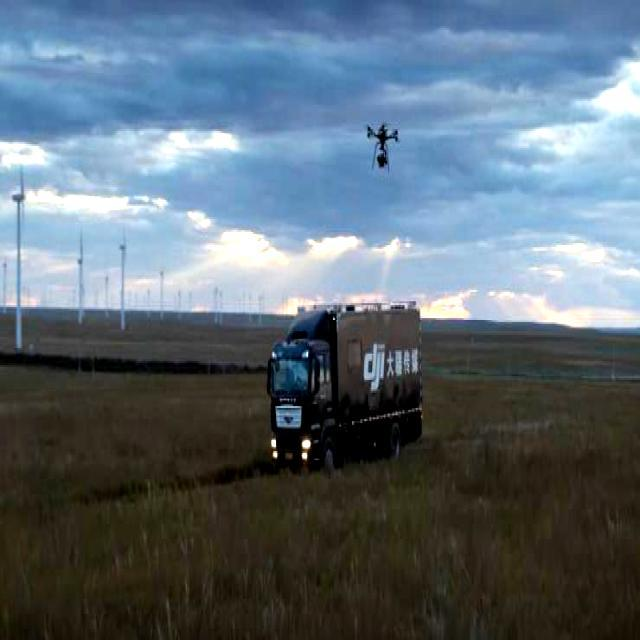drone: (364, 110, 401, 178)
